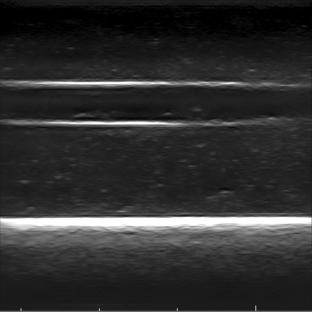vessel: (0, 77, 270, 128)
